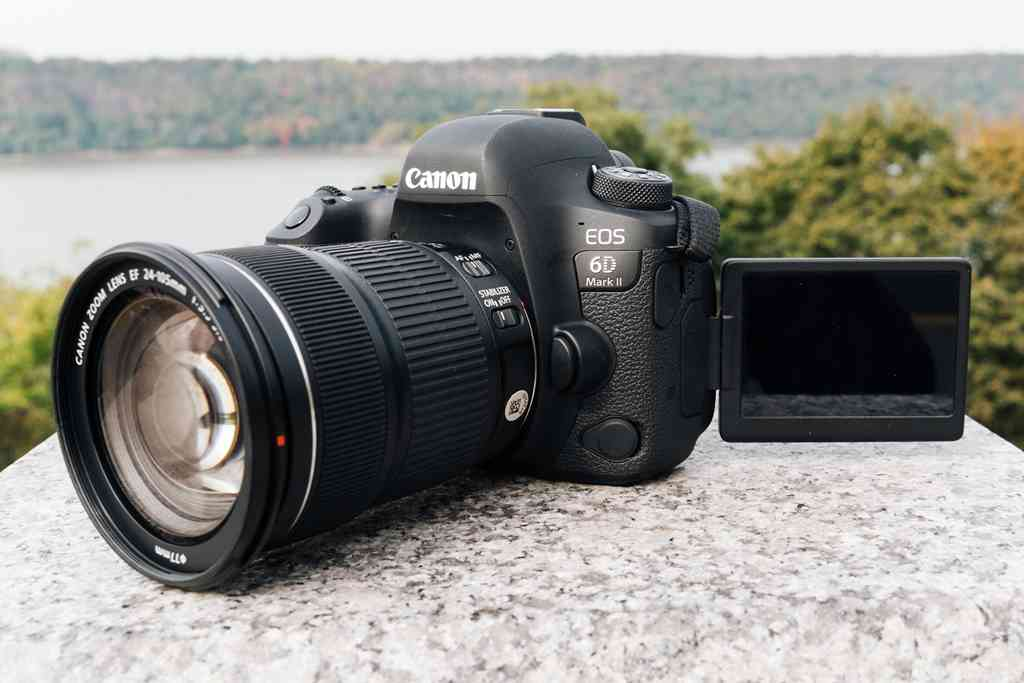camera: (59, 114, 722, 580)
